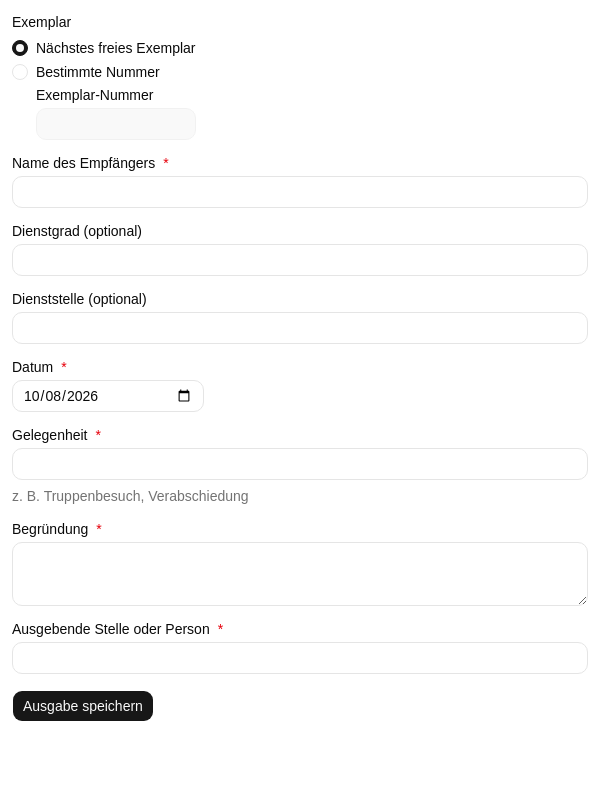
Test: clientseitige Prüfung › zeigt den Fehler am Feld mit aria-invalid und aria-describedby
This screenshot has width=608, height=795.
Click the button "Ausgabe speichern" at (83, 706), box [12, 690, 154, 722]
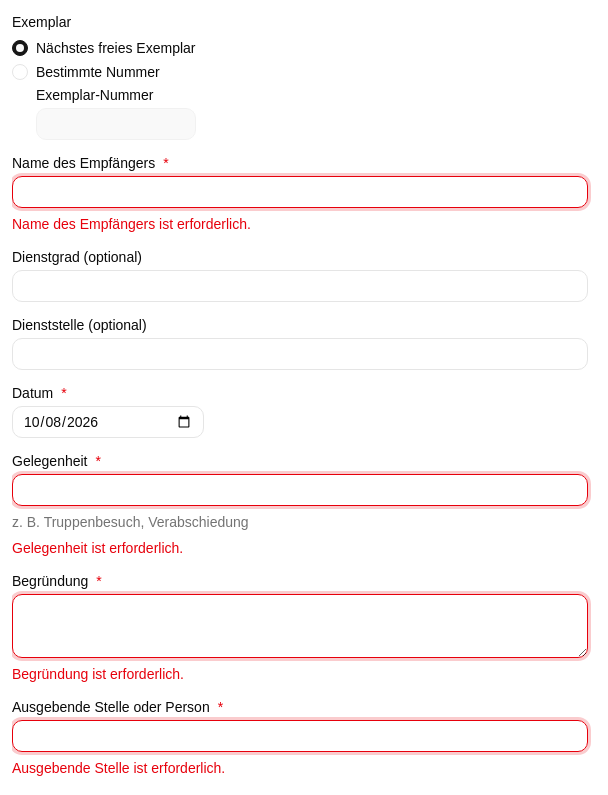
Expected: the text "Name des Empfängers ist erforderlich." is shown, [12, 216, 251, 232]
